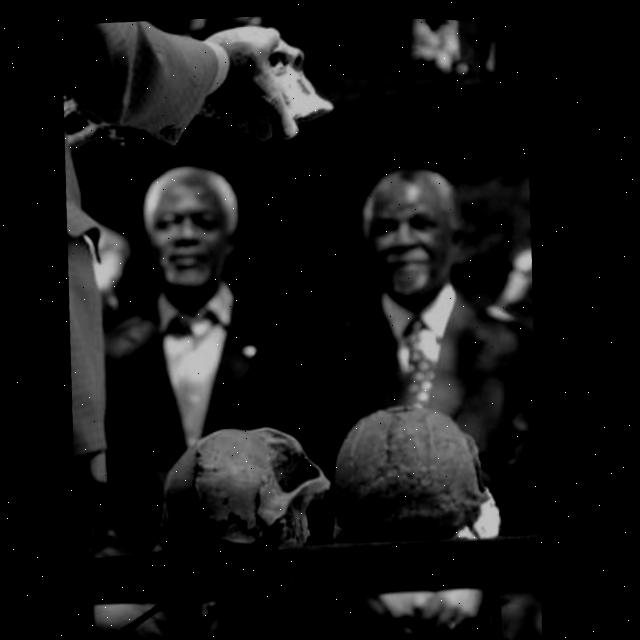face: (350, 164, 465, 310), (134, 160, 243, 298)
